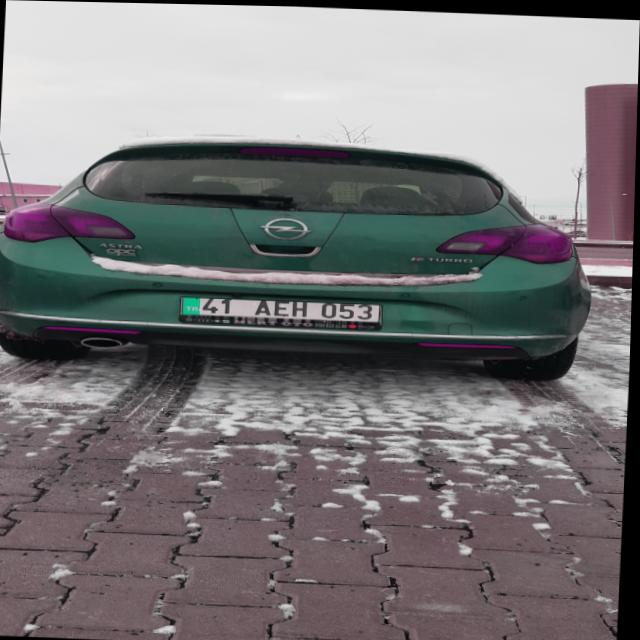license_plate: (182, 297, 383, 323)
